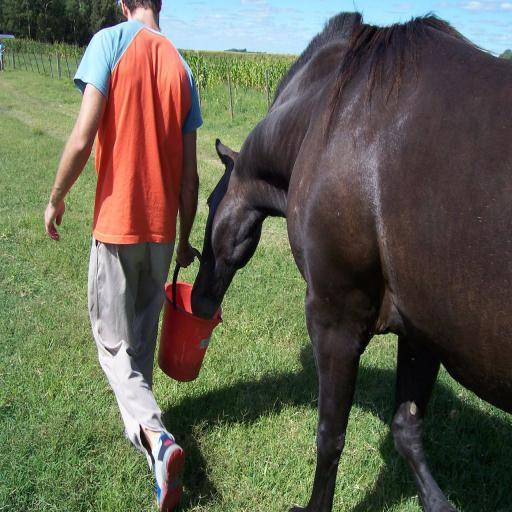horse: (188, 10, 512, 512)
